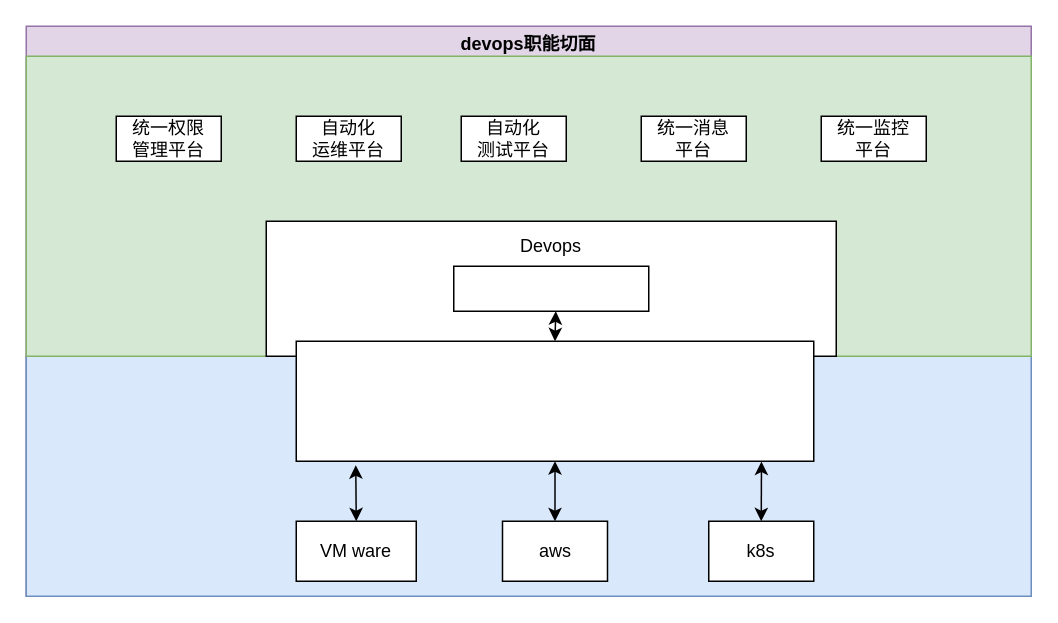
This 1058x623 diagram has some shape labels left out. Here are the shapes that lost their labels. From the top down, the centre of each, then its label:
At point (550, 288): "资源与环境管理".
At point (554, 400): "CMDB".
